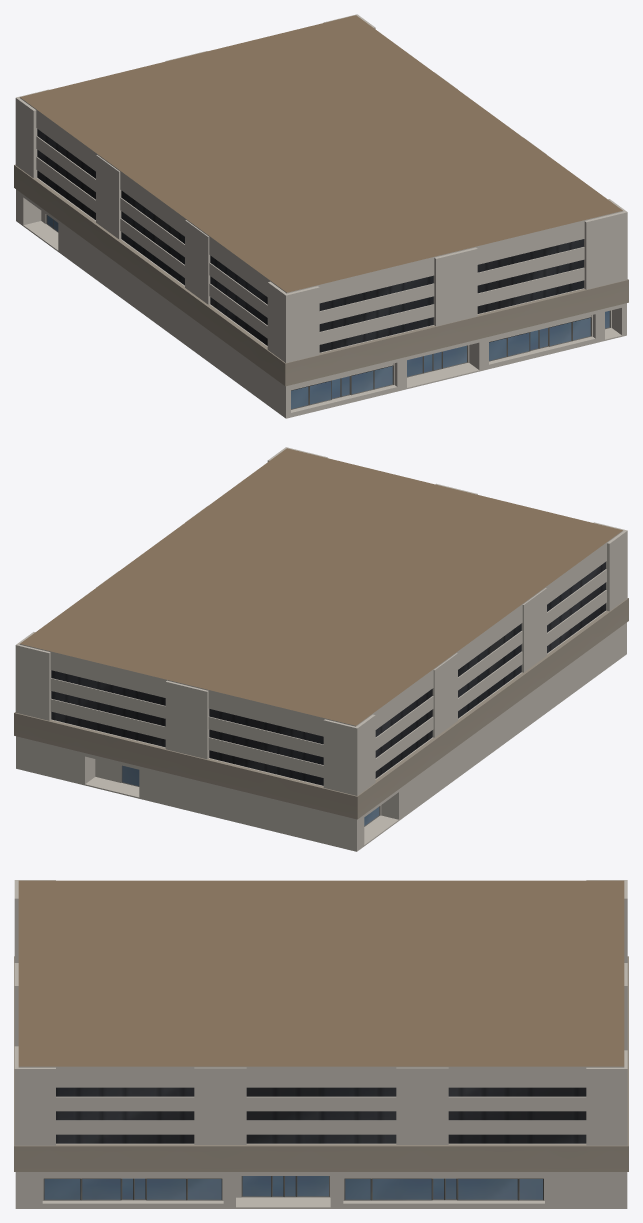
The model's file is Bld_Building_C.fbx.
The picture shows the model from 3 angles, top to bottom: view 1: azimuth 30°, elevation 25°; view 2: azimuth 150°, elevation 25°; view 3: azimuth 270°, elevation 25°; orthographic projection. The views are drawn at different scales.
Parts seen in each view (by area): view 1: Bld_Building_C; view 2: Bld_Building_C; view 3: Bld_Building_C.
Part boxes in pixels (x1,y1,x2,y2): Bld_Building_C: [14, 14, 628, 418]; Bld_Building_C: [14, 447, 628, 851]; Bld_Building_C: [14, 880, 628, 1208].
Size of the model in its own units: 4335 by 1500 by 5932.
